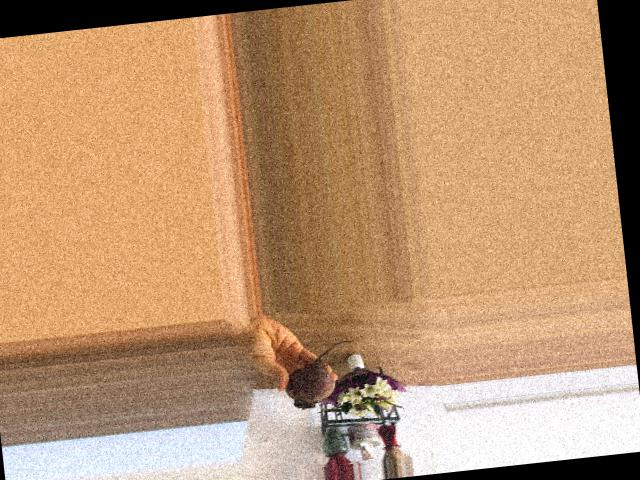beet: (281, 340, 361, 410)
